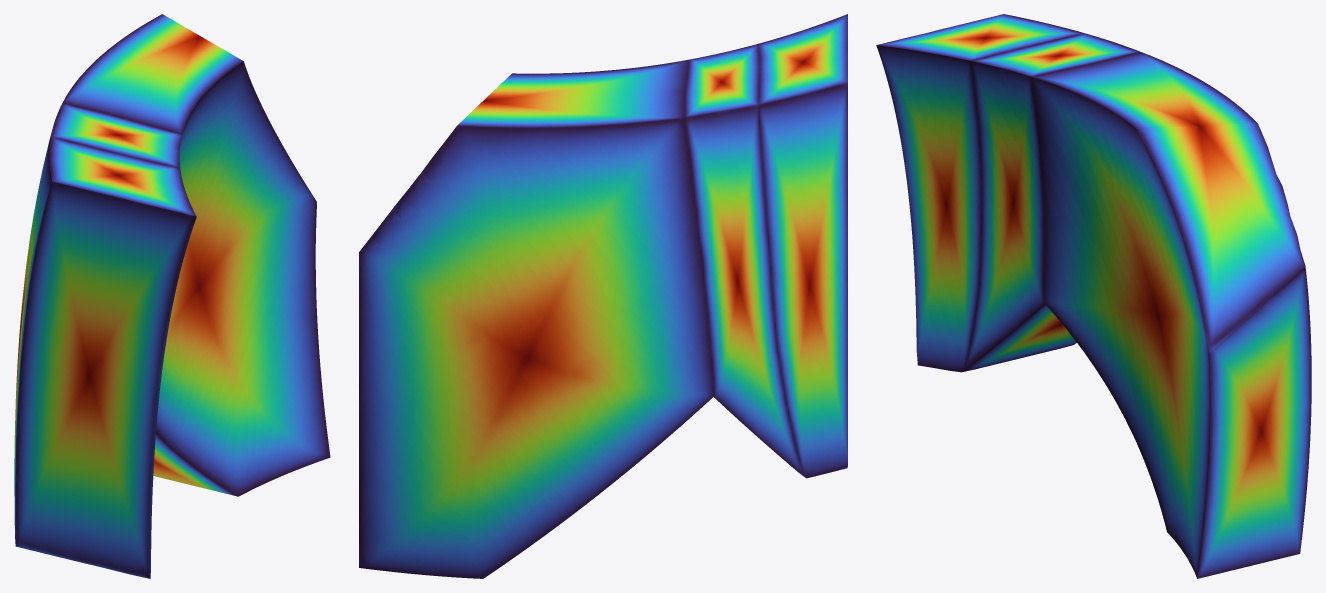
Rendered from gen3.glb.
3 views of the same model, side by side, from view 1: azimuth 30°, elevation 25°; view 2: azimuth 150°, elevation 25°; view 3: azimuth 270°, elevation 25° (orthographic). The views are drawn at different scales.
Parts seen in each view (by area): view 1: Node; view 2: Node; view 3: Node.
Boxes of the visible parts, x1,y1,x2,y2 form: Node: (14, 14, 330, 578); Node: (359, 14, 847, 578); Node: (876, 14, 1311, 578).
Bounding box in the file's own units: 70.72 × 75 × 74.39.
Materials: 1 (1 with a texture image).
